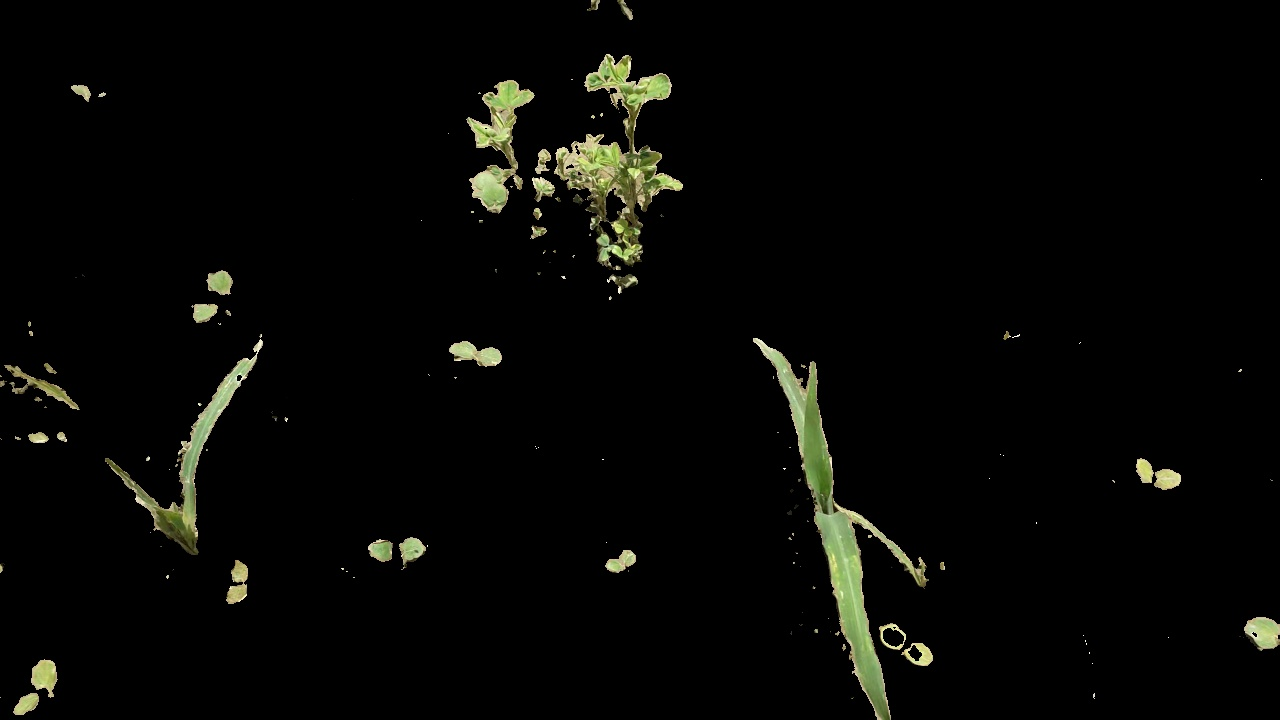crop: (748, 336, 934, 595), (102, 333, 275, 557)
weed: (461, 54, 686, 293), (10, 654, 62, 718), (185, 266, 237, 327), (881, 619, 937, 667), (367, 536, 435, 568), (1242, 604, 1280, 660), (1135, 454, 1180, 495), (447, 337, 500, 371), (226, 559, 256, 604), (599, 546, 643, 576)
